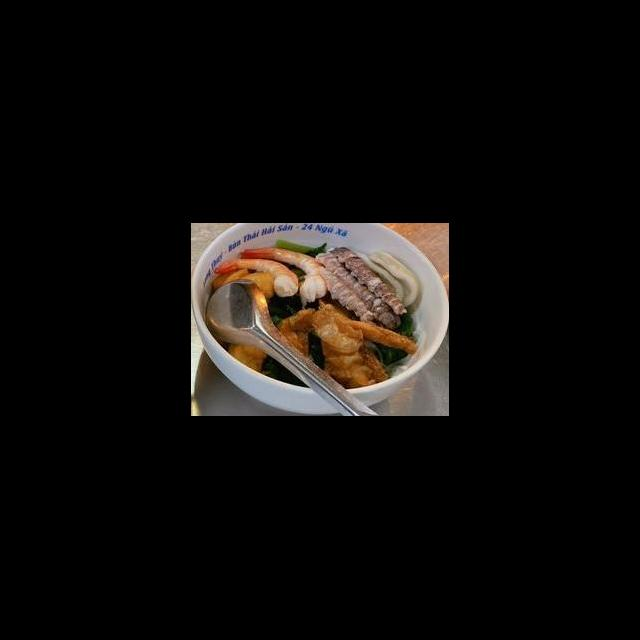ca: (315, 296, 392, 392), (310, 302, 420, 361), (273, 306, 318, 364)
tom: (236, 246, 330, 304), (212, 256, 300, 300)
tom tit: (313, 250, 403, 334), (329, 244, 409, 316), (318, 264, 377, 324)
